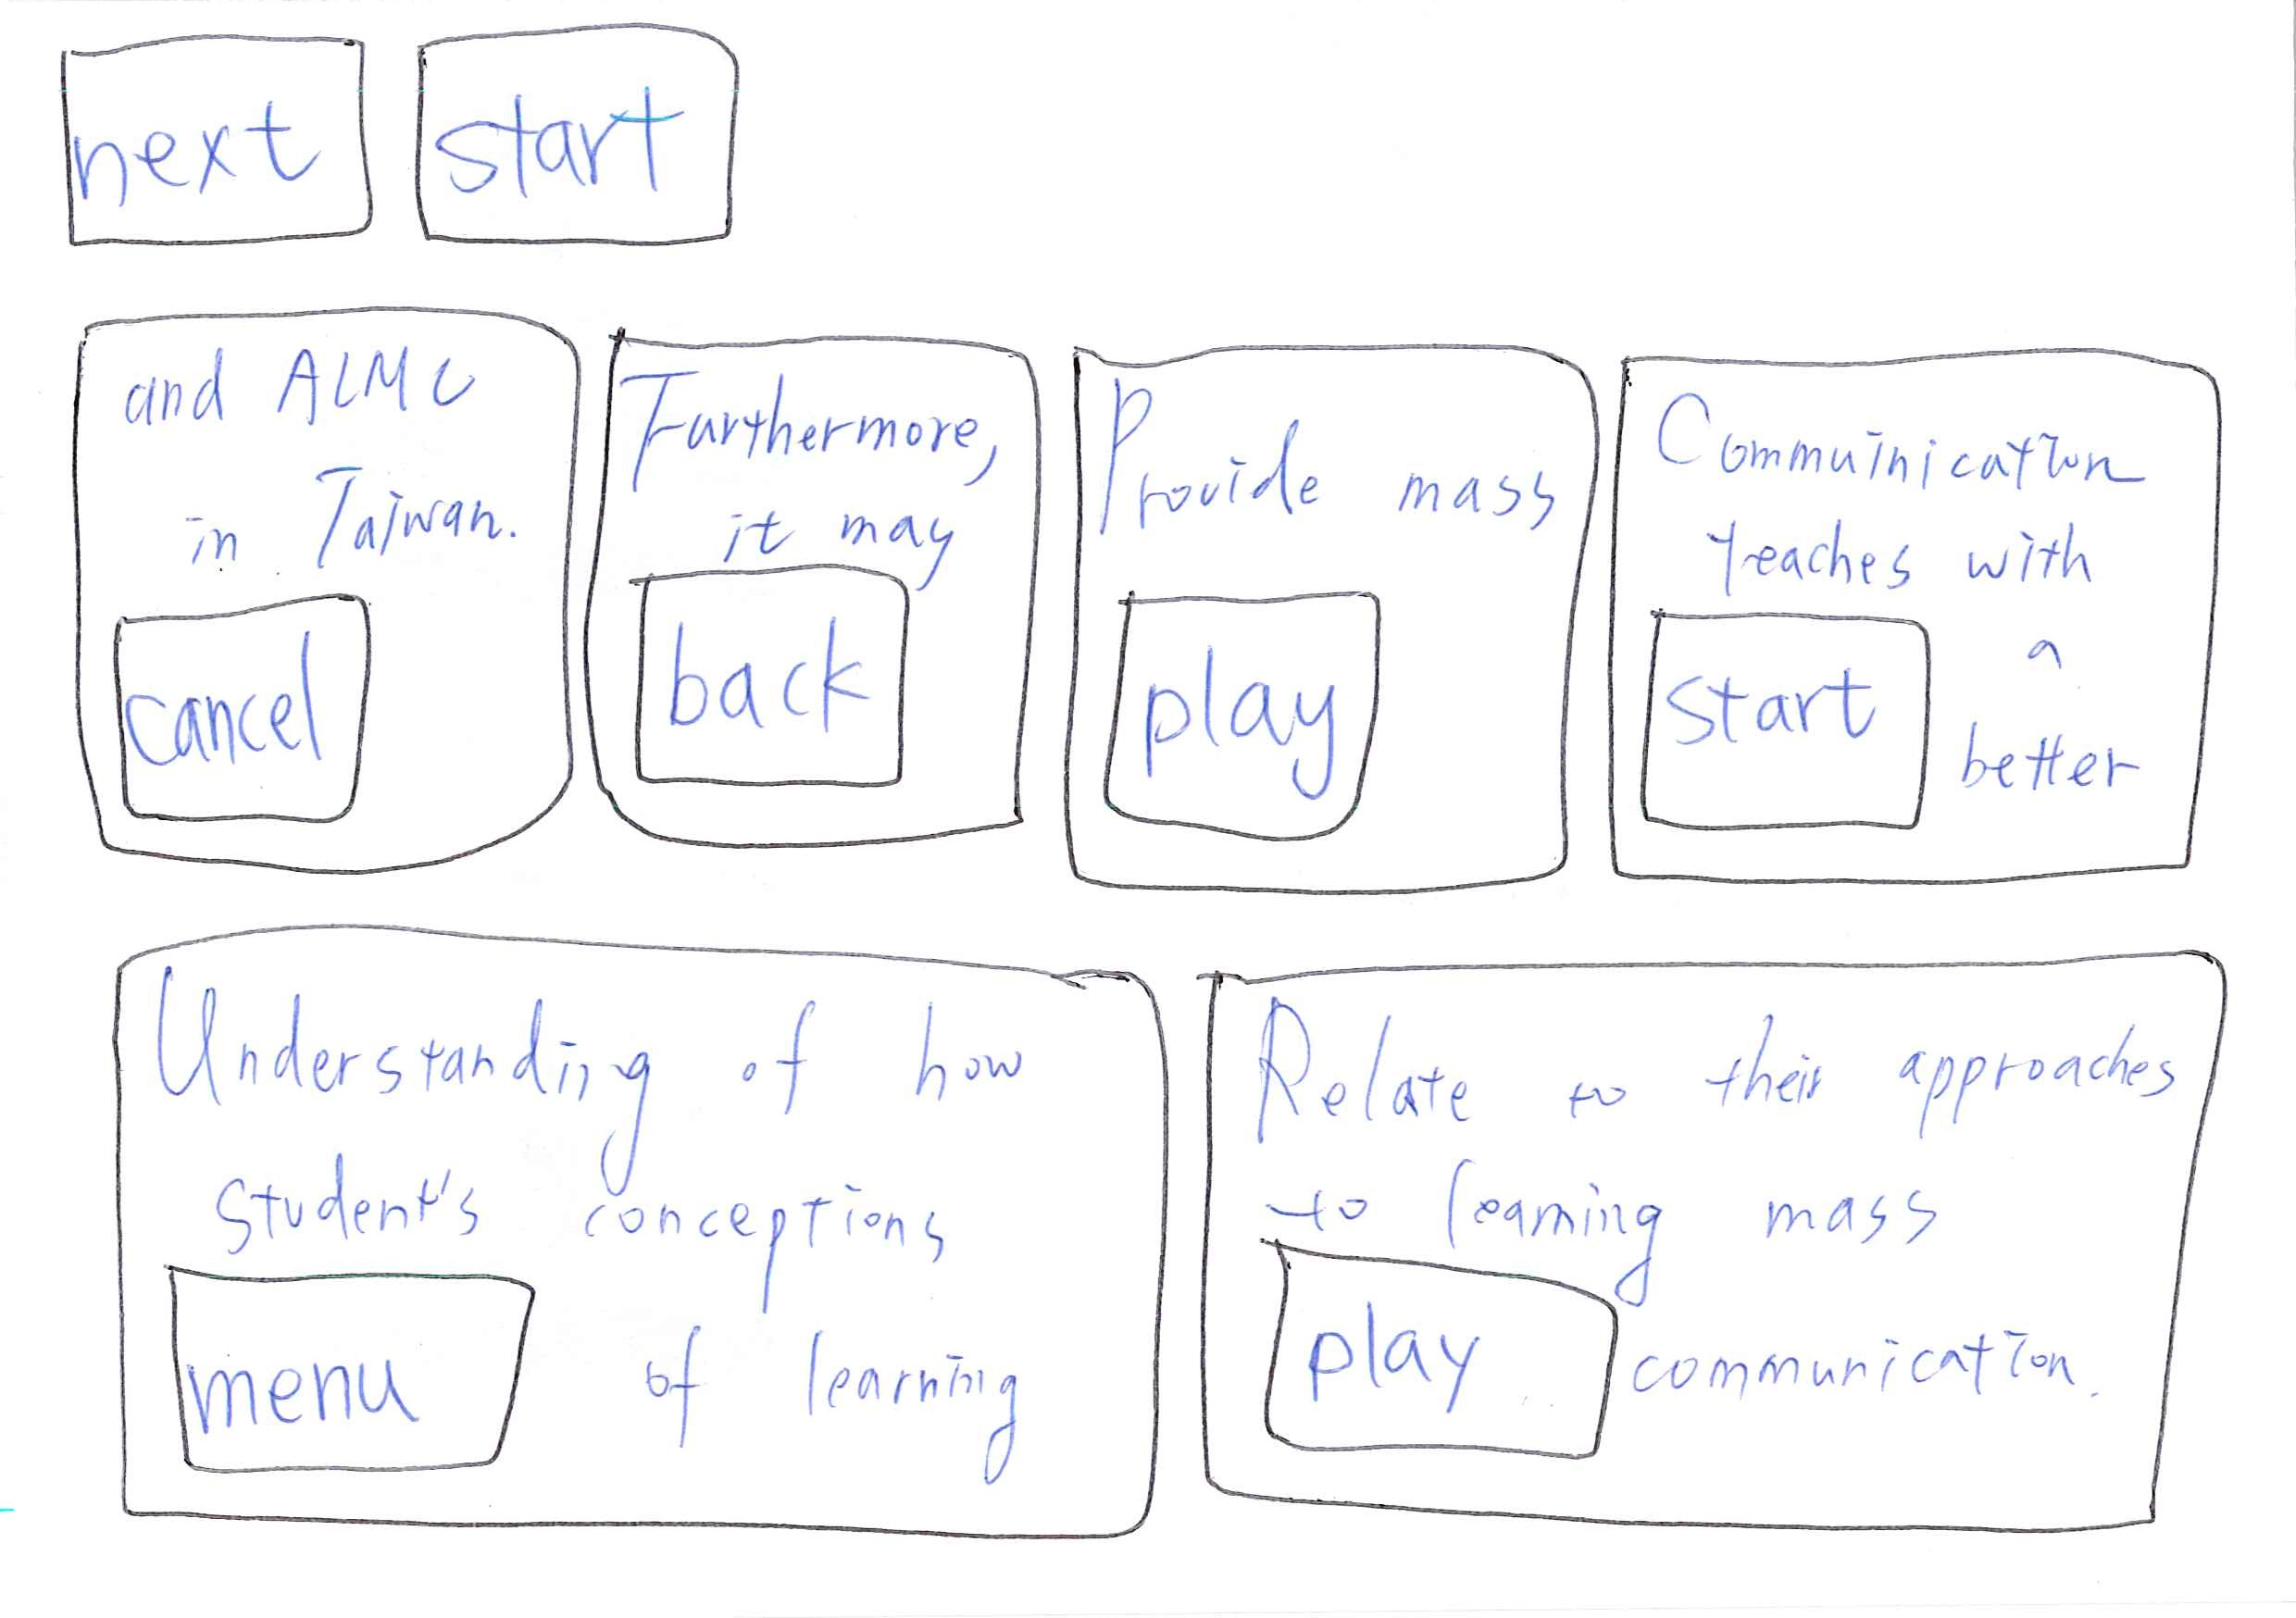back: (615, 552, 944, 805)
cancel: (84, 587, 422, 848)
double: (102, 902, 1194, 1565), (1168, 912, 2261, 1576)
menu: (137, 1259, 578, 1495)
next: (40, 23, 392, 268)
play: (1084, 567, 1452, 849), (1231, 1233, 1625, 1481)
quadruple: (1608, 310, 2252, 926), (1047, 298, 1613, 919), (40, 284, 590, 888), (578, 292, 1072, 911)
row: (25, 301, 2296, 919), (25, 942, 2296, 1560), (9, 2, 2278, 299)
small-title: (163, 967, 1060, 1152), (1652, 368, 2168, 595), (1263, 1002, 2172, 1126), (1110, 380, 1566, 545), (630, 368, 1000, 492), (112, 340, 482, 443)
start: (380, 2, 758, 285), (1616, 604, 1951, 855)
text: (1627, 1249, 2124, 1445), (221, 1166, 1056, 1270), (1259, 1156, 1951, 1250), (646, 1312, 1040, 1452), (170, 447, 520, 574), (1947, 639, 2149, 816), (722, 506, 975, 557)
